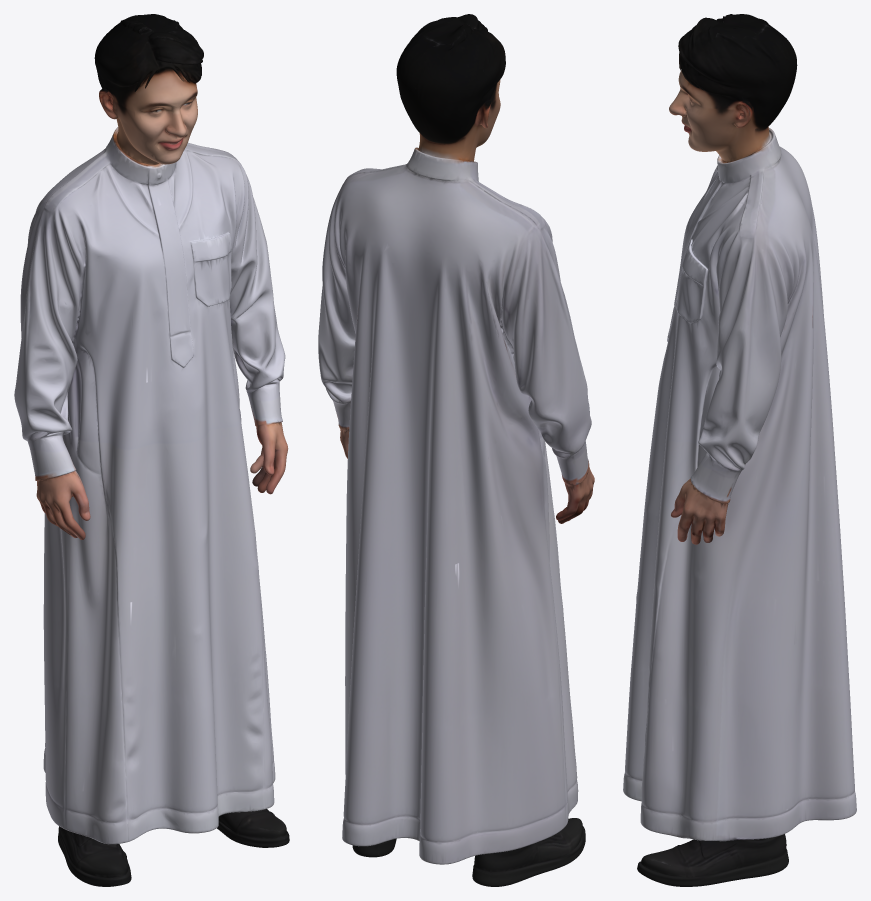
The model's file is presenter-natural-lite.glb.
The picture shows the model from 3 angles, left to right: view 1: azimuth 30°, elevation 25°; view 2: azimuth 150°, elevation 25°; view 3: azimuth 270°, elevation 25°; orthographic projection.
Visible parts, largest first — view 1: node_0; view 2: node_0; view 3: node_0.
Boxes of the visible parts, x1=… form: node_0: x1=14, y1=14, x2=289, y2=886; node_0: x1=318, y1=14, x2=594, y2=886; node_0: x1=623, y1=14, x2=856, y2=886.
Bounding box in the file's own units: 0.3818 × 1.16 × 0.2987.
Materials: 1 (1 with a texture image).
